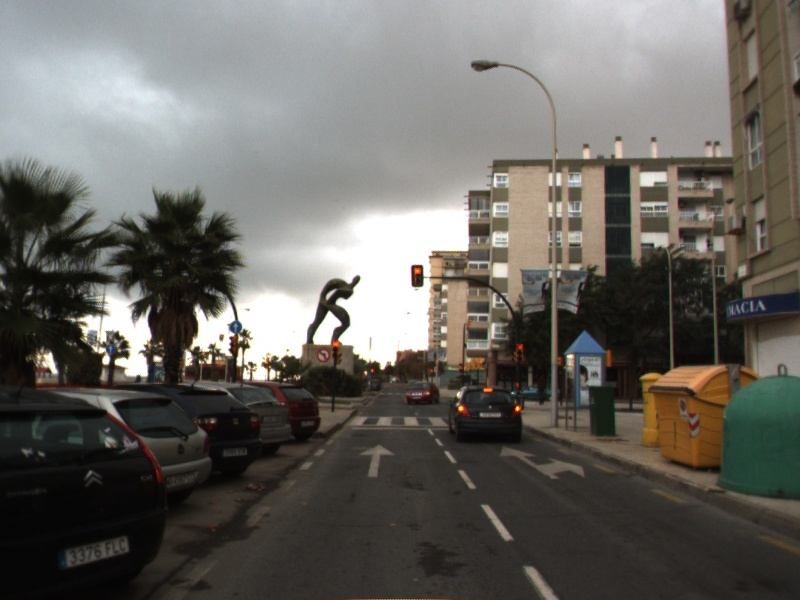STRAIGHT: (358, 443, 397, 479)
STRAIGHT_RIGHT: (498, 444, 586, 481)
